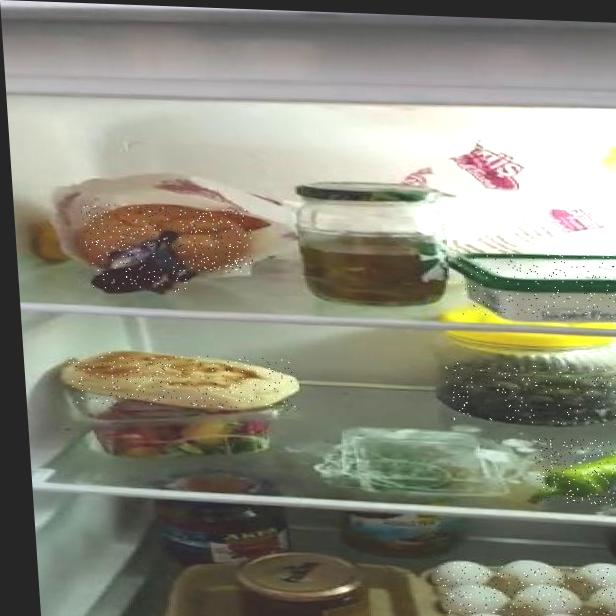bazlama: (66, 351, 296, 411)
bread: (77, 203, 254, 274)
cream cheese: (458, 249, 616, 321)
eggs: (436, 562, 616, 616)
green chilies: (534, 438, 616, 507)
olives: (445, 363, 616, 426)
red onion: (90, 240, 188, 292)
